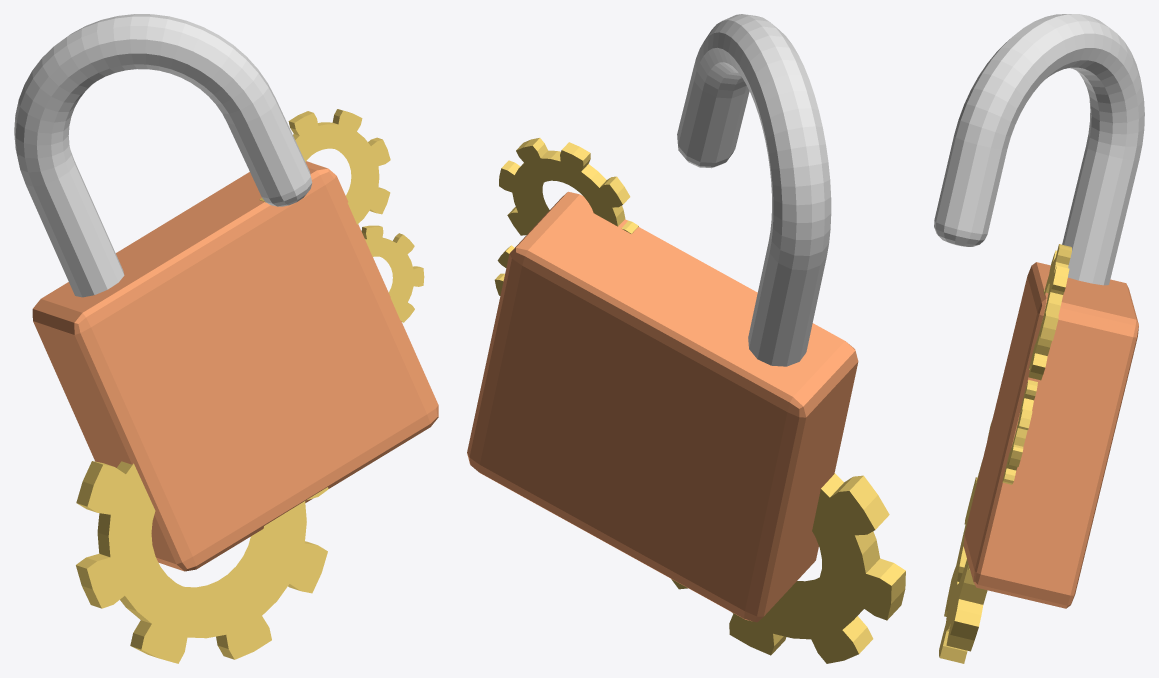
File: lock-smart.glb
3 views of the same model, side by side, from view 1: azimuth 30°, elevation 25°; view 2: azimuth 150°, elevation 25°; view 3: azimuth 270°, elevation 25° (orthographic). The views are drawn at different scales.
Visible parts, largest first — view 1: Lock.002, Gear.003, Gear.002, Gear.001; view 2: Lock.002, Gear.003, Gear.002; view 3: Lock.002, Gear.003, Gear.002, Gear.001.
Part boxes in pixels (x1=…): Lock.002: x1=14, y1=14, x2=438, y2=571; Gear.003: x1=76, y1=461, x2=328, y2=663; Gear.002: x1=259, y1=109, x2=390, y2=224; Gear.001: x1=361, y1=225, x2=424, y2=322; Lock.002: x1=467, y1=14, x2=858, y2=622; Gear.003: x1=671, y1=473, x2=905, y2=663; Gear.002: x1=499, y1=138, x2=638, y2=235; Lock.002: x1=934, y1=14, x2=1144, y2=608; Gear.003: x1=939, y1=420, x2=992, y2=663; Gear.002: x1=1028, y1=244, x2=1071, y2=380; Gear.001: x1=1002, y1=380, x2=1037, y2=484.
Size of the model in its own units: 6.7 by 11.07 by 3.42.
